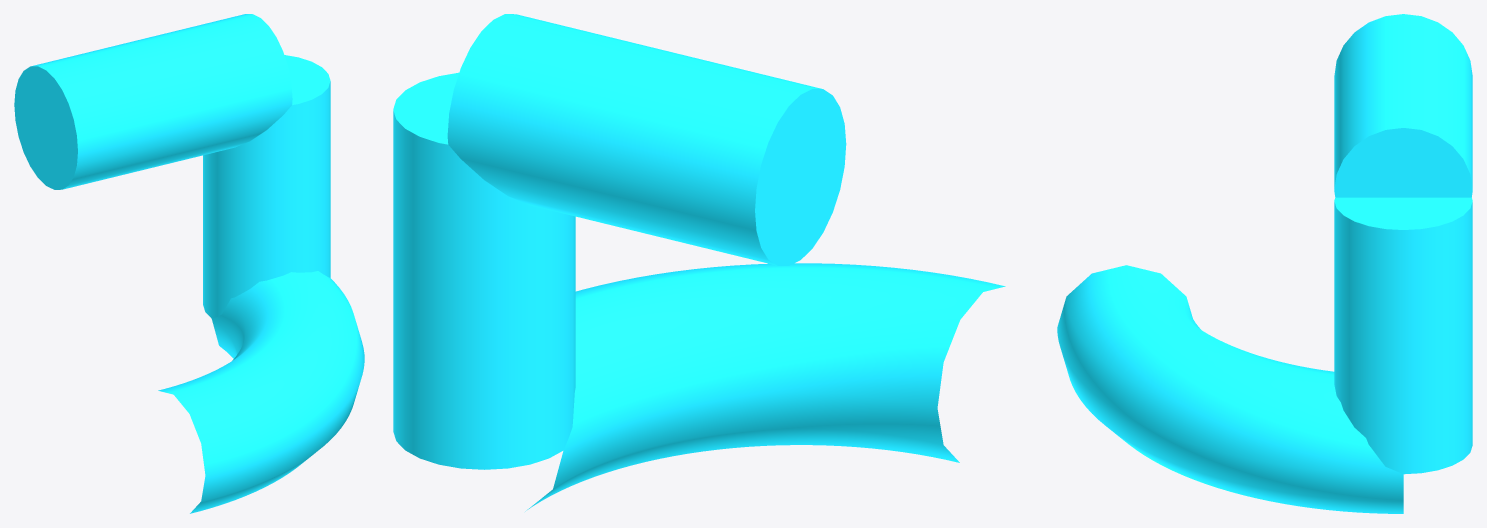
Rendered from pipe-elbow.glb.
The picture shows the model from 3 angles, left to right: view 1: azimuth 30°, elevation 25°; view 2: azimuth 150°, elevation 25°; view 3: azimuth 270°, elevation 25°; orthographic projection. The views are drawn at different scales.
Parts seen in each view (by area): view 1: Ninety degree pipe elbow; view 2: Ninety degree pipe elbow; view 3: Ninety degree pipe elbow.
Boxes of the visible parts, x1,y1,x2,y2 form: Ninety degree pipe elbow: (14,14,364,513); Ninety degree pipe elbow: (393,14,1005,511); Ninety degree pipe elbow: (1057,14,1472,513).
Size of the model in its own units: 0.9 by 1.08 by 1.08.
